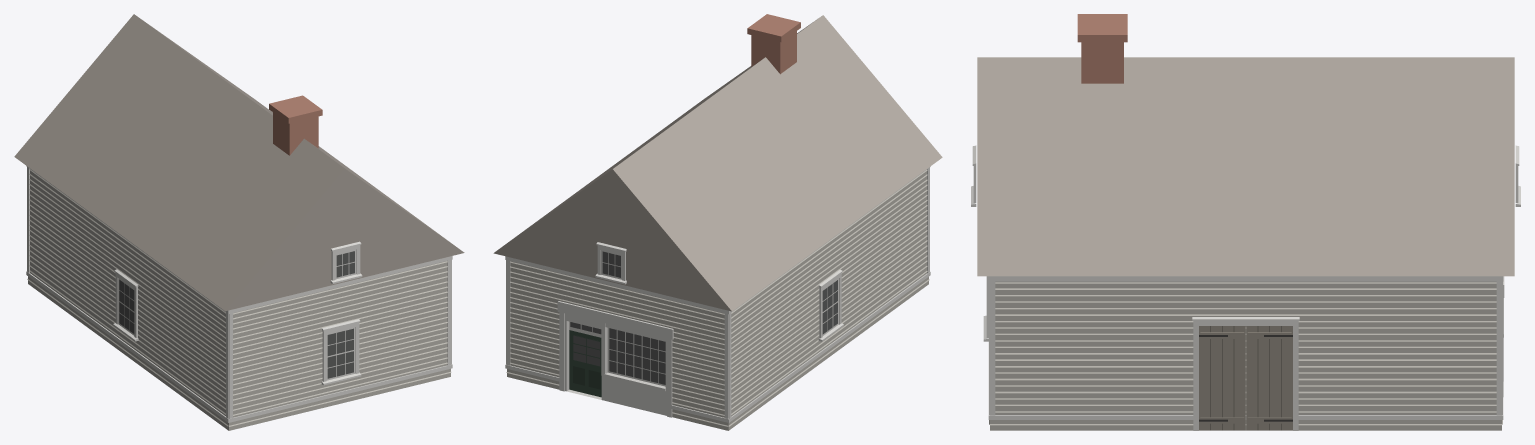
File: recon_1835_core_c2_013__inferred_1835.glb
3 renders of one model, left to right at view 1: azimuth 30°, elevation 25°; view 2: azimuth 150°, elevation 25°; view 3: azimuth 270°, elevation 25°, orthographic. The views are drawn at different scales.
Parts seen in each view (by area): view 1: recon_1835_core_c2_013__inferred_1835; view 2: recon_1835_core_c2_013__inferred_1835; view 3: recon_1835_core_c2_013__inferred_1835.
Part boxes in pixels (left/top/right/bottom): recon_1835_core_c2_013__inferred_1835: left=14, top=14, right=464, bottom=430; recon_1835_core_c2_013__inferred_1835: left=493, top=14, right=942, bottom=430; recon_1835_core_c2_013__inferred_1835: left=971, top=14, right=1520, bottom=430.
Bounding box in the file's own units: 6.92 × 7.31 × 10.81.
